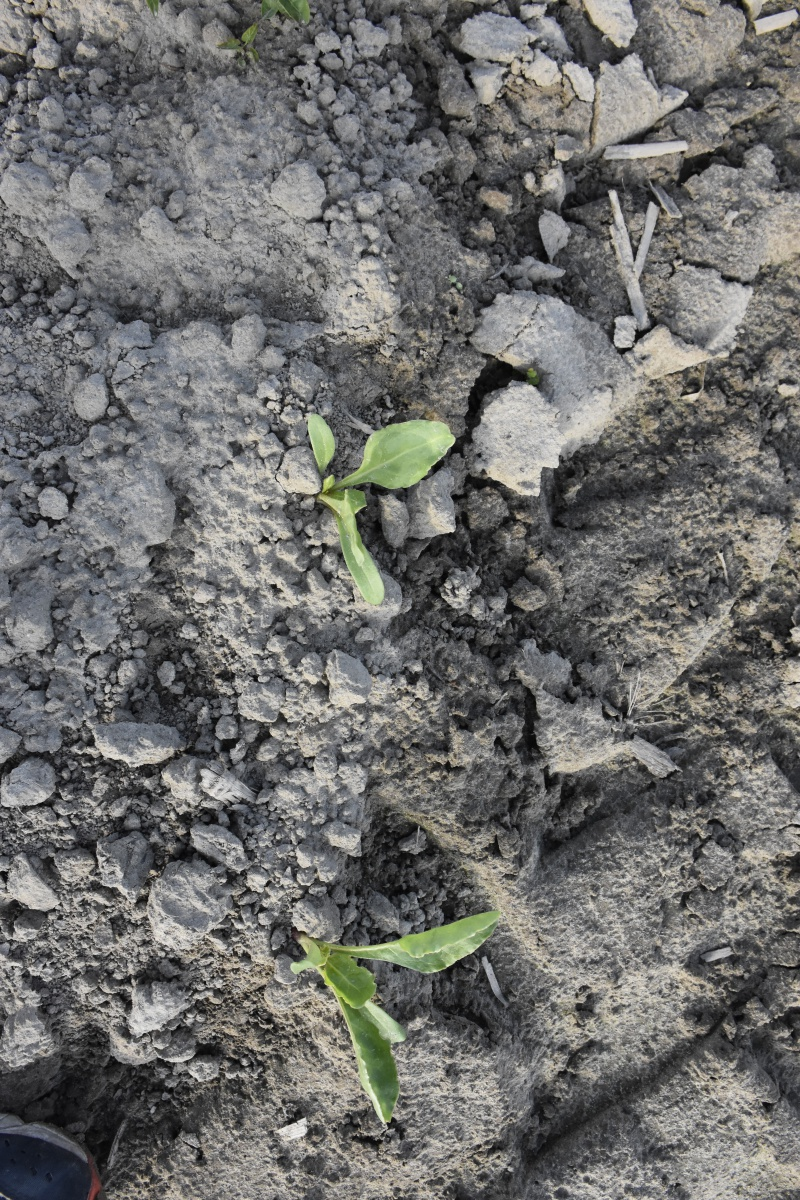sugar beet: (290, 897, 507, 1141), (294, 409, 446, 604)
